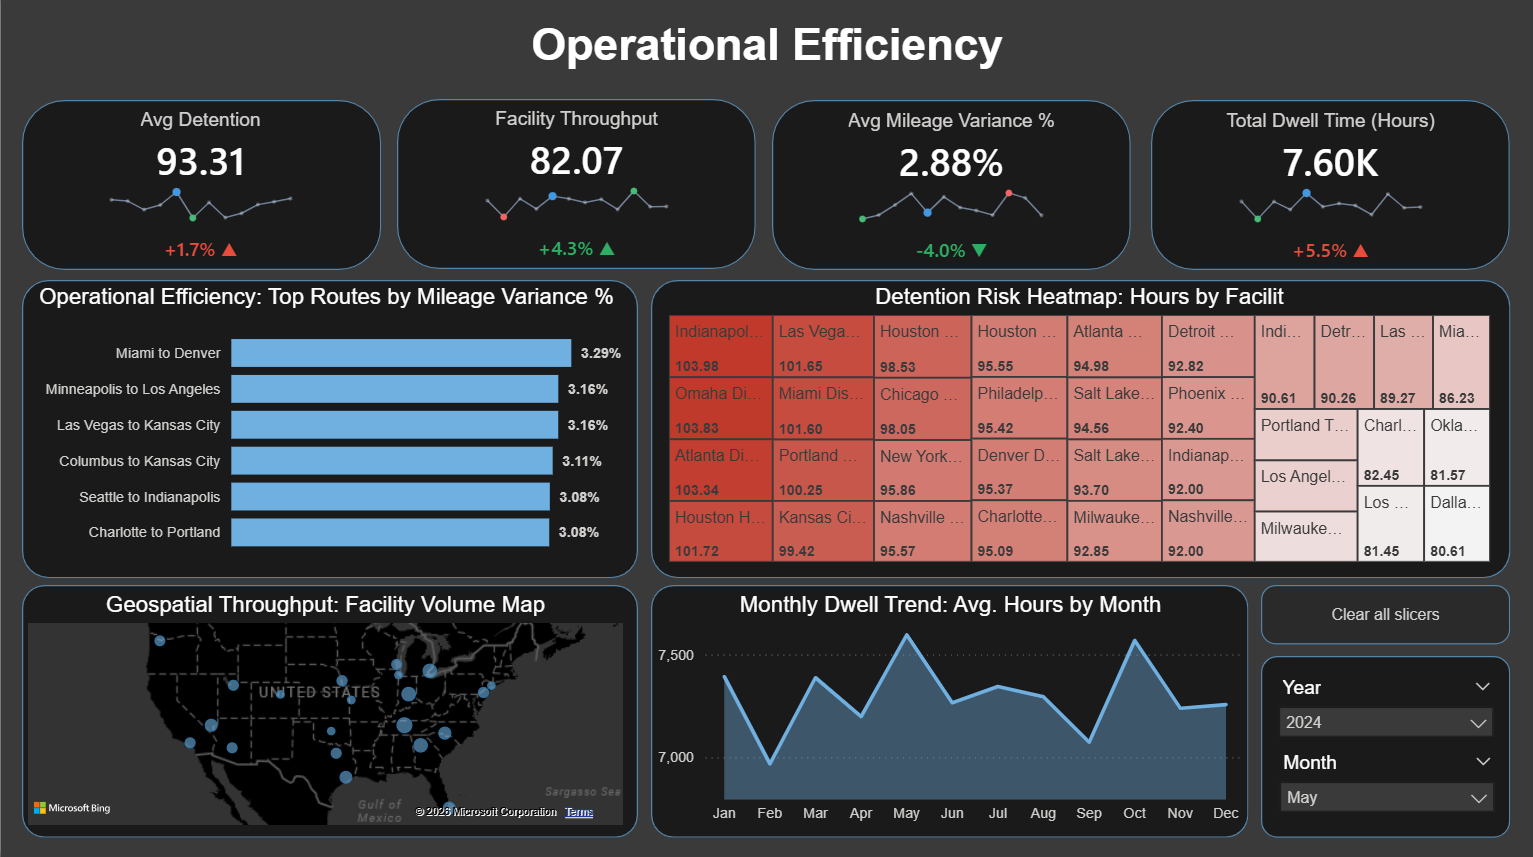

The page's visual inventory and layout, read from the dashboard file:
{"tool":"powerbi","page":{"name":"🚚 Operational Efficiency","canvas":[1280,720],"ordinal":2},"visuals":[{"type":"shape","box":[542.7,237.9,717.8,249],"z":0},{"type":"shape","box":[17.5,237.9,514.5,249],"z":1000},{"type":"shape","box":[542.7,493.1,499,211.1],"z":2000},{"type":"shape","box":[17.5,493.1,514.5,211.1],"z":3000},{"type":"shape","box":[1052.4,552.5,208.1,151.7],"z":4000},{"type":"textbox","box":[0,0,1280,77.8],"z":5000},{"type":"actionButton","box":[1052.4,493.1,208.1,49.6],"z":6000},{"type":"clusteredBarChart","title":"Operational Efficiency: Top Routes by Mileage Variance %","fields":{"Category":["v_FactRouteVariance.Route Lane"],"Y":["_Measures.Avg Mileage Variance %"]},"box":[18.2,241.6,507.2,236.8],"z":7000},{"type":"areaChart","title":"Monthly Dwell Trend: Avg. Hours by Month","fields":{"Category":["v_DimDate.Month Short"],"Y":["_Measures.Total Dwell Time (Hours)"]},"box":[542.7,498.6,500.5,200.4],"z":8000},{"type":"map","title":"Geospatial Throughput: Facility Volume Map","fields":{"Category":["v_DimFacilities.Facility Location"],"Size":["_Measures.Facility Throughput"]},"box":[18,498.3,507.2,200.2],"z":9000},{"type":"shape","box":[17.5,87.5,300,142],"z":10000},{"type":"cardVisual","fields":{"Data":["_Measures.Avg Detention"]},"box":[16.4,79.1,300.9,158.2],"z":11000},{"type":"shape","box":[330.7,86.6,299.6,142],"z":12000},{"type":"cardVisual","fields":{"Data":["_Measures.Facility Throughput"]},"box":[330.9,78.2,300,158.2],"z":13000},{"type":"shape","box":[643.9,87.5,299.6,142],"z":14000},{"type":"cardVisual","fields":{"Data":["_Measures.On-Time Delivery"]},"box":[643.6,80,300.9,158.2],"z":15000},{"type":"shape","box":[961,87.5,299.6,142],"z":16000},{"type":"cardVisual","fields":{"Data":["_Measures.Total Dwell Time (Hours)"]},"box":[960.9,80,300,158.2],"z":17000},{"type":"slicer","fields":{"Values":["v_DimDate.Month Name"]},"box":[1058.5,627.5,199,63],"z":18000},{"type":"slicer","fields":{"Values":["v_DimDate.Year"]},"box":[1057.6,564.7,199.3,62.8],"z":19000},{"type":"treemap","title":"Detention Risk Heatmap: Hours by Facilit","fields":{"Group":["v_DimFacilities.Facility Name"],"Values":["_Measures.Avg Detention"]},"box":[553,241.5,695.8,237],"z":20000}]}

Visuals, with their boxes in screenshot pixels (x1, y1, x2, y2), scaled from the page's 1280x720 canvas onto the 1533x857 screenshot:
shape: rect(650, 283, 1510, 580)
shape: rect(21, 283, 637, 580)
shape: rect(650, 587, 1248, 838)
shape: rect(21, 587, 637, 838)
shape: rect(1260, 658, 1510, 838)
textbox: rect(0, 0, 1532, 93)
actionButton: rect(1260, 587, 1510, 646)
"Operational Efficiency: Top Routes by Mileage Variance %" clusteredBarChart: rect(22, 288, 629, 569)
"Monthly Dwell Trend: Avg. Hours by Month" areaChart: rect(650, 593, 1249, 832)
"Geospatial Throughput: Facility Volume Map" map: rect(22, 593, 629, 831)
shape: rect(21, 104, 380, 273)
cardVisual - _Measures.Avg Detention: rect(20, 94, 380, 282)
shape: rect(396, 103, 755, 272)
cardVisual - _Measures.Facility Throughput: rect(396, 93, 756, 281)
shape: rect(771, 104, 1130, 273)
cardVisual - _Measures.On-Time Delivery: rect(771, 95, 1131, 284)
shape: rect(1151, 104, 1510, 273)
cardVisual - _Measures.Total Dwell Time (Hours): rect(1151, 95, 1510, 284)
slicer - v_DimDate.Month Name: rect(1268, 747, 1506, 822)
slicer - v_DimDate.Year: rect(1267, 672, 1505, 747)
"Detention Risk Heatmap: Hours by Facilit" treemap: rect(662, 287, 1496, 570)
